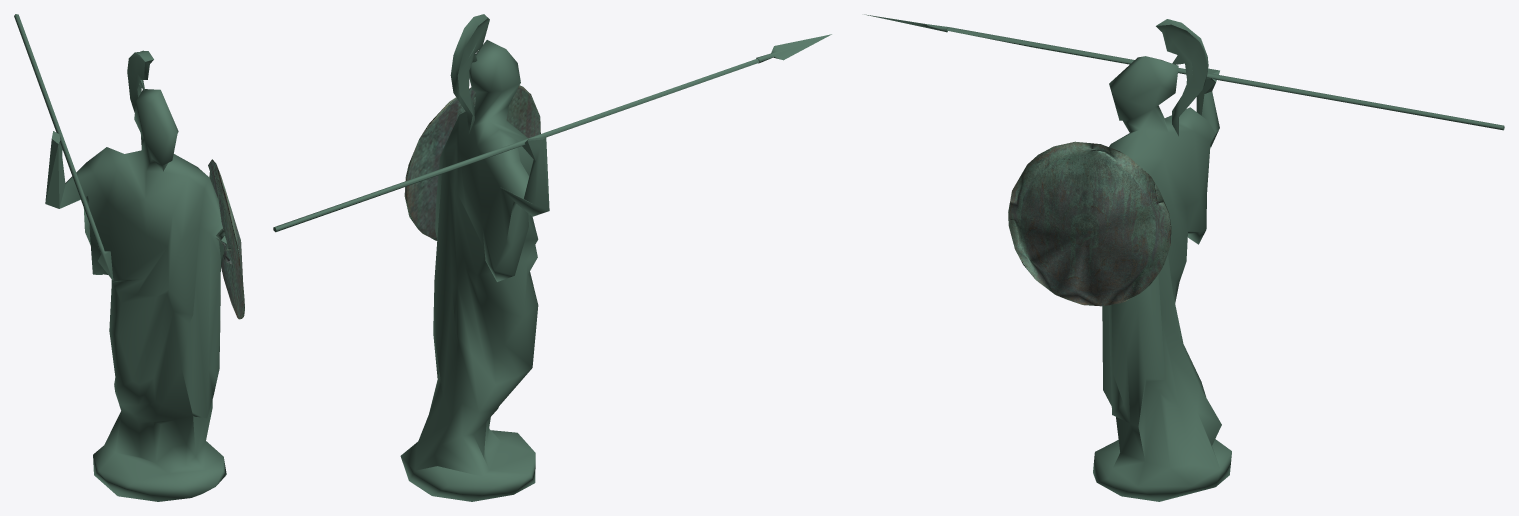
Rendered from PromachosLOD3.glb.
3 renders of one model, left to right at view 1: azimuth 30°, elevation 25°; view 2: azimuth 150°, elevation 25°; view 3: azimuth 270°, elevation 25°, orthographic. The views are drawn at different scales.
Visible parts, largest first — view 1: Original2:Group60191, Shield_Low3; view 2: Original2:Group60191, Shield_Low3; view 3: Original2:Group60191, Shield_Low3.
Boxes of the visible parts, x1,y1,x2,y2 form: Original2:Group60191: (14,14,226,501); Shield_Low3: (208,159,244,319); Original2:Group60191: (273,14,831,501); Shield_Low3: (404,85,540,240); Original2:Group60191: (864,14,1504,501); Shield_Low3: (1008,141,1171,306).
Size of the model in its own units: 1.7 by 2.8 by 3.63.
Materials: 2 (1 with a texture image).
